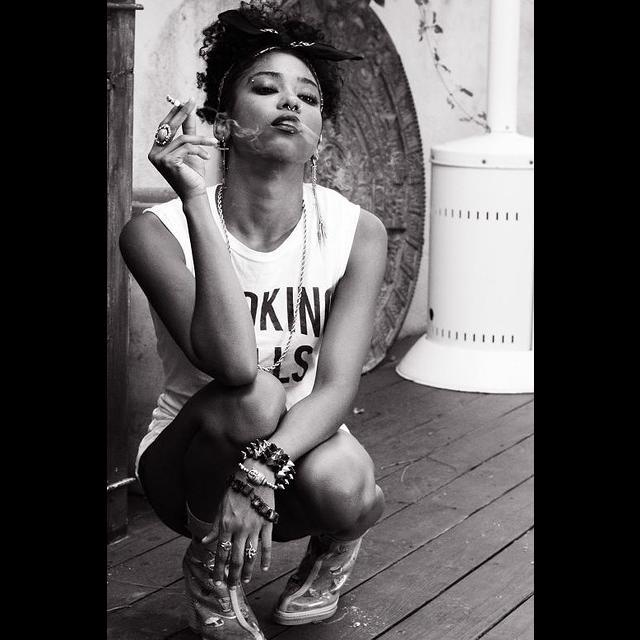rokok: (162, 94, 182, 110)
